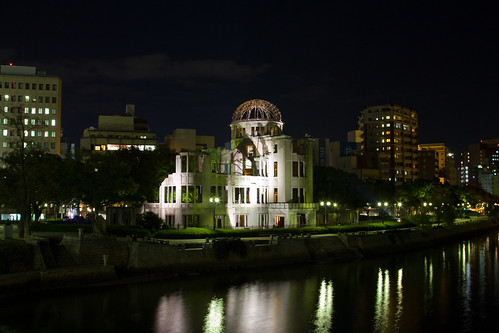building: (158, 95, 315, 230), (1, 66, 66, 156), (358, 99, 419, 182), (77, 103, 160, 156), (460, 135, 499, 191), (422, 141, 458, 185)
river: (4, 234, 498, 330)
sky: (1, 1, 490, 129)
tree: (1, 150, 84, 224), (85, 152, 152, 225)
